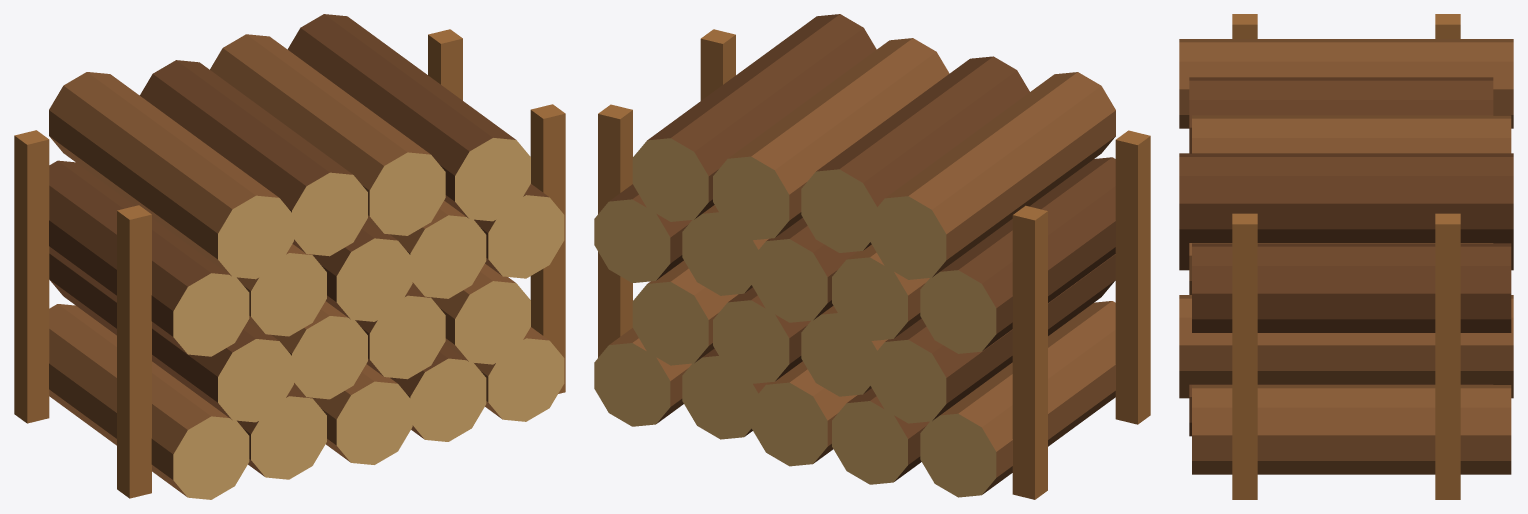
The model's file is firewood_stack.glb.
3 views of the same model, side by side, from view 1: azimuth 30°, elevation 25°; view 2: azimuth 150°, elevation 25°; view 3: azimuth 270°, elevation 25° (orthographic).
Parts seen in each view (by area): view 1: firewood_stack; view 2: firewood_stack; view 3: firewood_stack.
Part boxes in pixels (box(x1,y1,x2,y2)): firewood_stack: box(14, 14, 565, 499); firewood_stack: box(594, 14, 1150, 499); firewood_stack: box(1179, 14, 1513, 499).
Bounding box in the file's own units: 0.982 × 0.6424 × 0.66.
